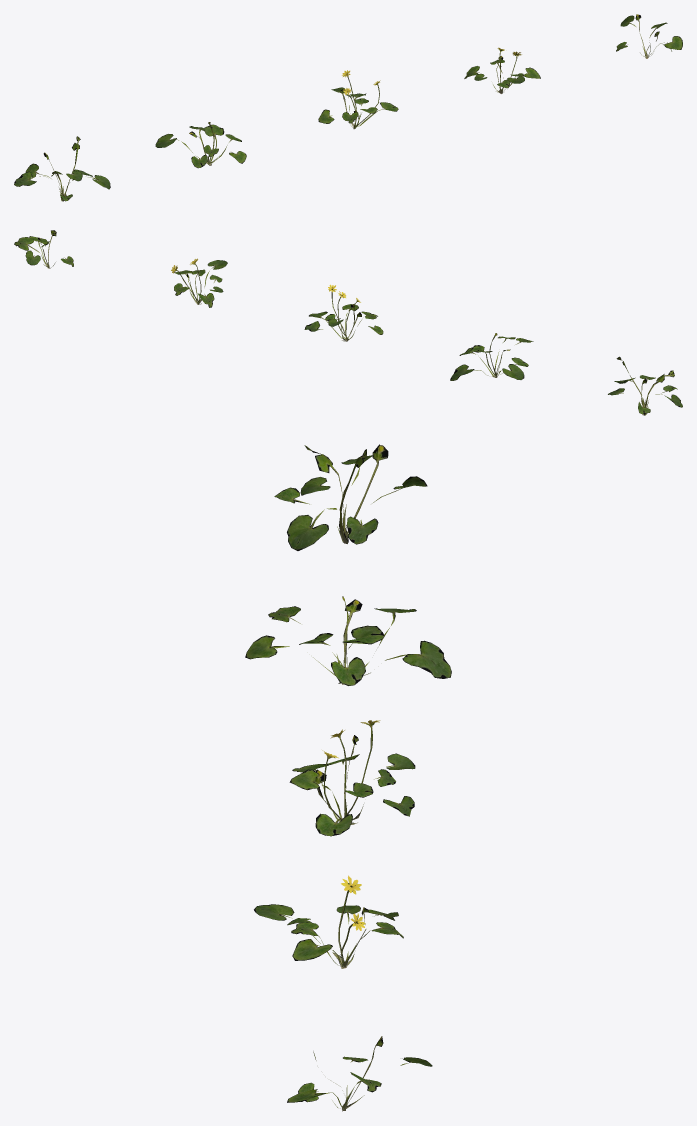
File: celandine_01.glb
3 renders of one model, top to bottom at view 1: azimuth 30°, elevation 25°; view 2: azimuth 150°, elevation 25°; view 3: azimuth 270°, elevation 25°, orthographic. The views are drawn at different scales.
Parts seen in each view (by area): view 1: celandine_01_a_LOD0; view 2: celandine_01_a_LOD0; view 3: celandine_01_a_LOD0.
Boxes of the visible parts, x1,y1,x2,y2 form: celandine_01_a_LOD0: (14, 14, 682, 201); celandine_01_a_LOD0: (14, 230, 682, 415); celandine_01_a_LOD0: (245, 444, 451, 1111).
Bounding box in the file's own units: 2.24 × 0.1859 × 0.3067.
Materials: 1 (1 with a texture image).
